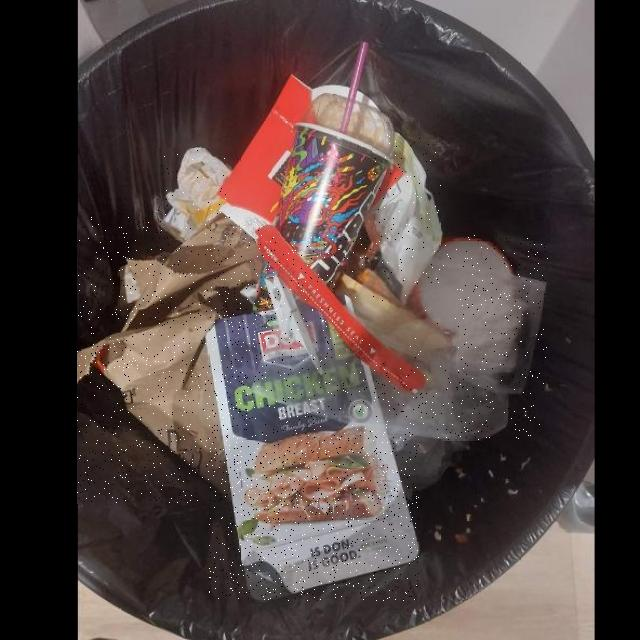paper: (78, 217, 260, 504), (273, 124, 395, 283), (336, 267, 455, 365), (157, 149, 228, 247)
plastic: (248, 235, 548, 440)
wrapper: (209, 303, 419, 601), (373, 132, 443, 285)
